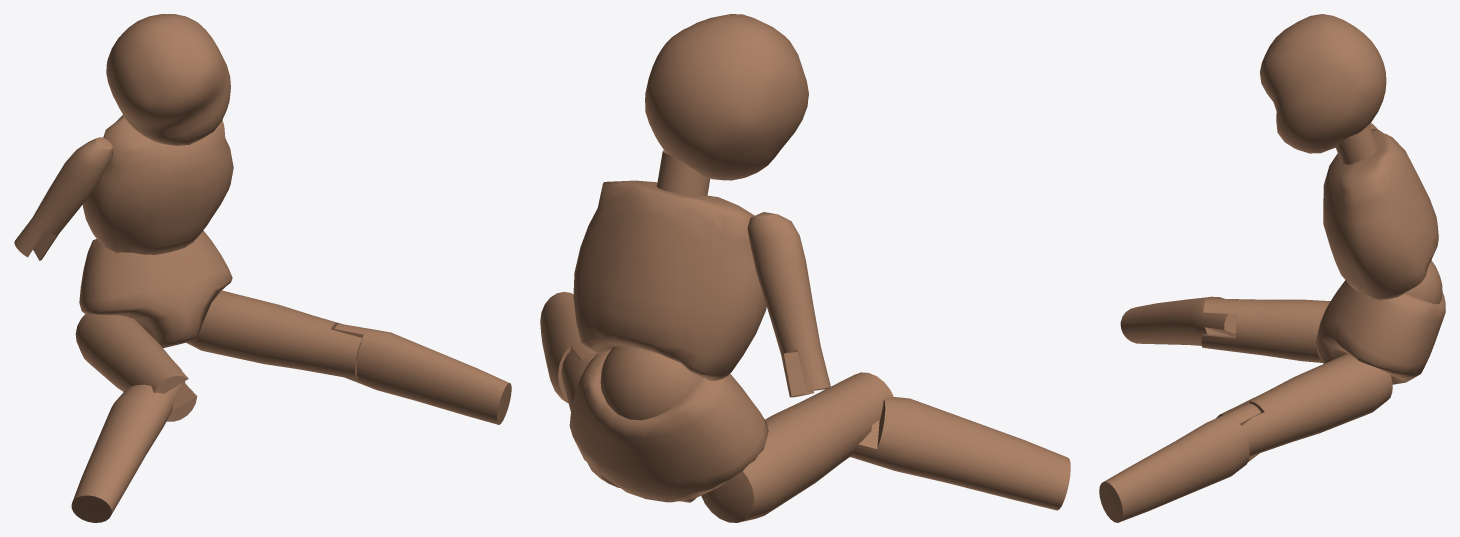
Rendered from wooden model 3.fbx.
The picture shows the model from 3 angles, left to right: view 1: azimuth 30°, elevation 25°; view 2: azimuth 150°, elevation 25°; view 3: azimuth 270°, elevation 25°; orthographic projection. The views are drawn at different scales.
Visible parts, largest first — view 1: polySurface139; view 2: polySurface139; view 3: polySurface139.
Boxes of the visible parts, x1=… form: polySurface139: x1=14, y1=14, x2=511, y2=522; polySurface139: x1=540, y1=14, x2=1070, y2=522; polySurface139: x1=1099, y1=14, x2=1445, y2=522.
Size of the model in its own units: 0.6108 by 0.5519 by 0.4321.
